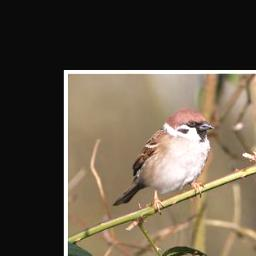Sparrow: (109, 107, 217, 215)
